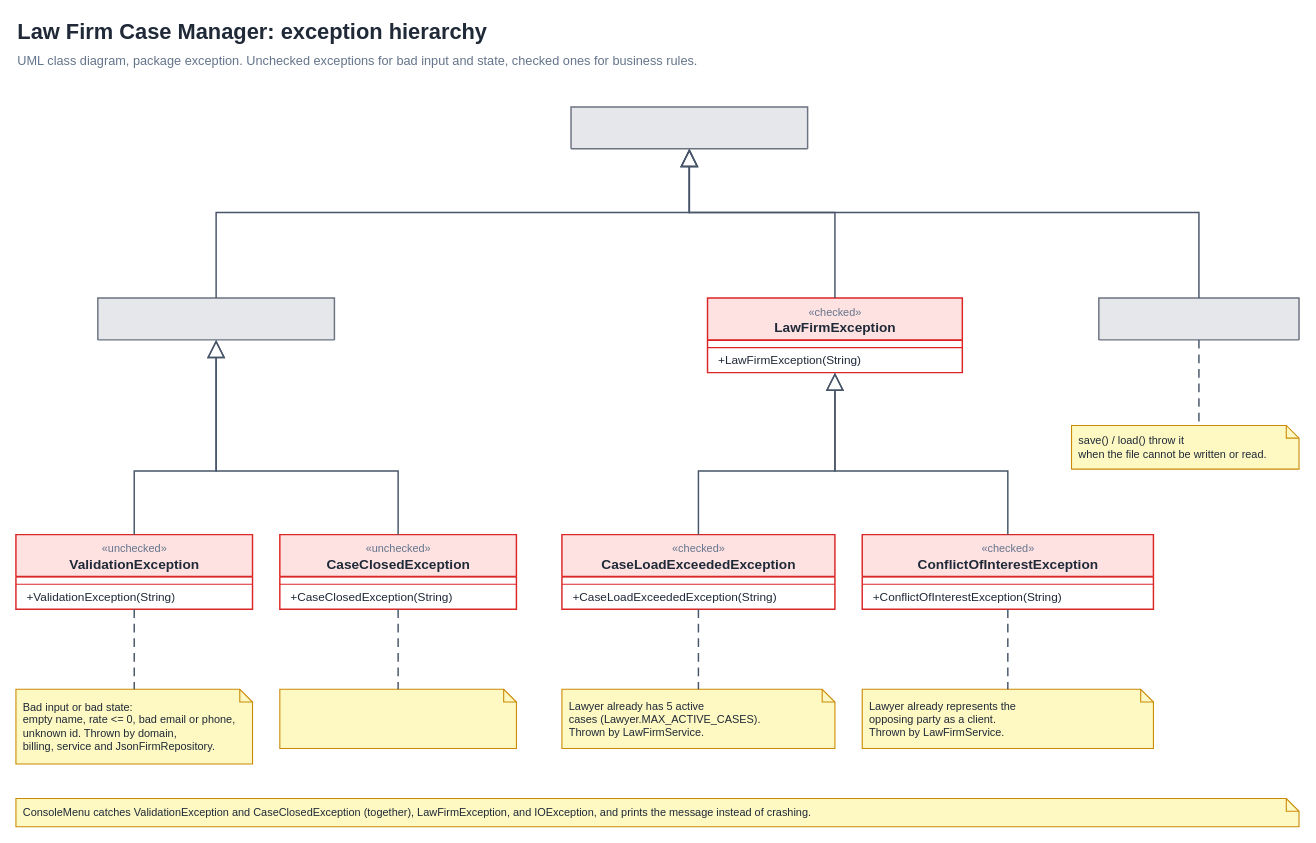
This 1316x843 diagram has some shape labels left out. Here are the shapes that lost their labels. From the top down, the centre of each, then its label:
At (689,127): "«java.lang» Exception".
At (216,318): "«java.lang» unchecked RuntimeException".
At (1198,318): "«java.io» checked IOException".
At (398,718): "Logging hours on a closed case, or closing a case twice. Thrown by LegalCase.".
